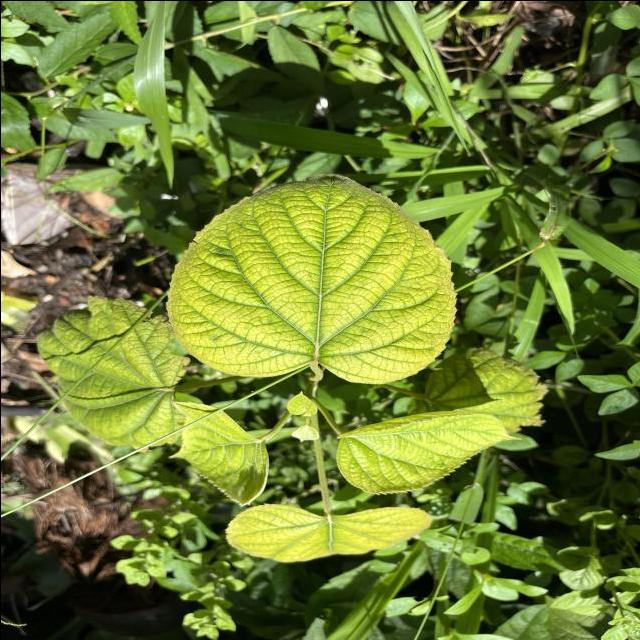Clerodendrum infortunatum: (165, 172, 458, 386), (34, 292, 190, 451), (333, 406, 525, 496), (223, 501, 434, 563), (167, 397, 271, 507)
